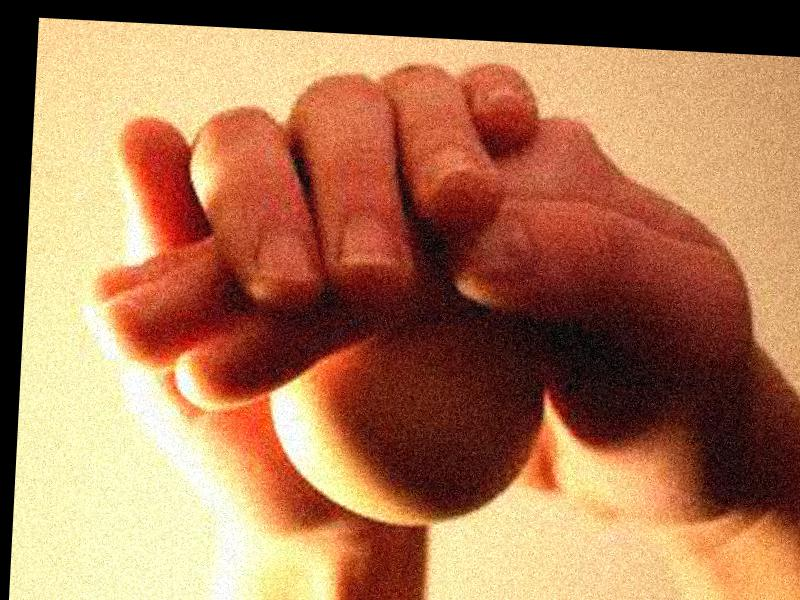Eggs: (264, 308, 551, 532)
